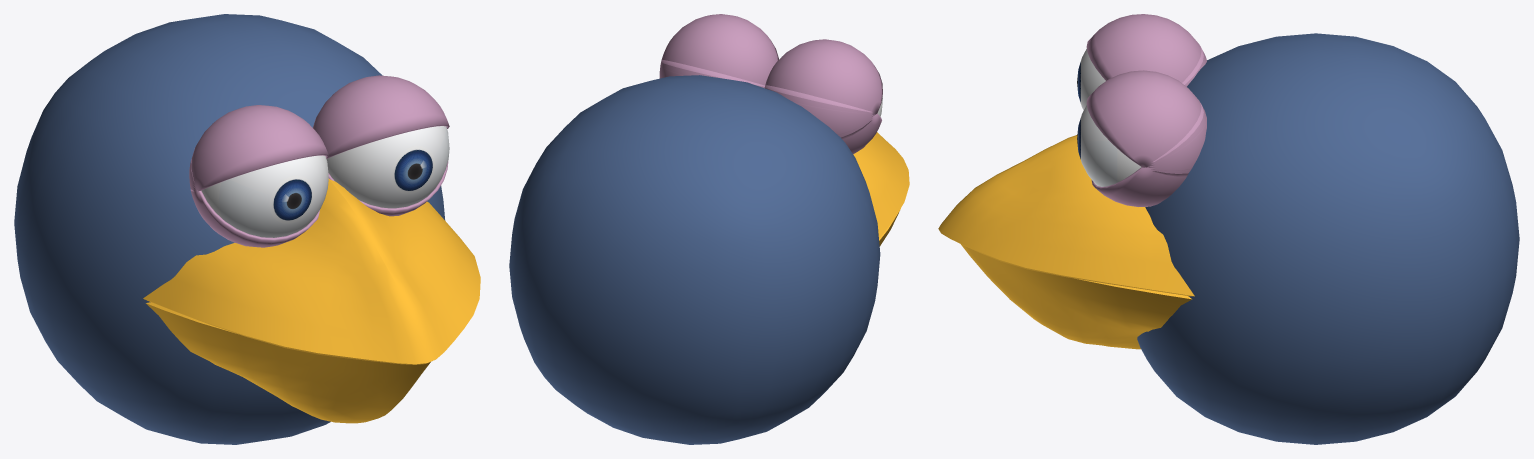
Rendered from Karich.fbx.
The picture shows the model from 3 angles, left to right: view 1: azimuth 30°, elevation 25°; view 2: azimuth 150°, elevation 25°; view 3: azimuth 270°, elevation 25°; orthographic projection. The views are drawn at different scales.
Visible parts, largest first — view 1: Cube.003, Plane, Eye, EyeBrows, Plane.001, EyeBrows.001; view 2: Cube.003, EyeBrows, Plane, EyeBrows.001; view 3: Cube.003, Plane, EyeBrows, Plane.001, Eye, EyeBrows.001.
Part boxes in pixels (bbox=[...]): Cube.003: bbox=[14, 14, 445, 444]; Plane: bbox=[143, 178, 480, 364]; Eye: bbox=[201, 126, 449, 237]; EyeBrows: bbox=[189, 75, 449, 191]; Plane.001: bbox=[146, 302, 430, 423]; EyeBrows.001: bbox=[189, 120, 448, 247]; Cube.003: bbox=[509, 75, 880, 444]; EyeBrows: bbox=[659, 14, 882, 139]; Plane: bbox=[853, 132, 909, 238]; EyeBrows.001: bbox=[659, 60, 881, 154]; Cube.003: bbox=[1137, 33, 1519, 444]; Plane: bbox=[938, 135, 1194, 296]; EyeBrows: bbox=[1086, 14, 1206, 176]; Plane.001: bbox=[961, 244, 1192, 349]; Eye: bbox=[1077, 48, 1141, 186]; EyeBrows.001: bbox=[1091, 46, 1206, 206].
Size of the model in its own units: 96.19 by 97.77 by 137.
